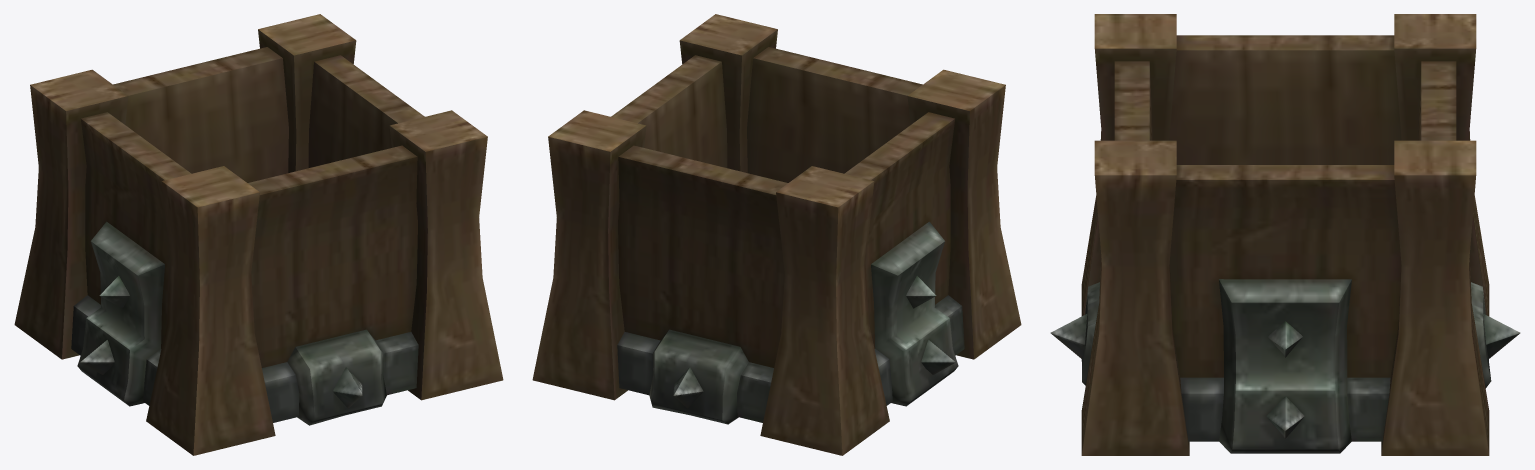
3 renders of one model, left to right at view 1: azimuth 30°, elevation 25°; view 2: azimuth 150°, elevation 25°; view 3: azimuth 270°, elevation 25°, orthographic. The views are drawn at different scales.
Size of the model in its own units: 1.38 by 0.8945 by 1.39.
1 material, 1 textured.
